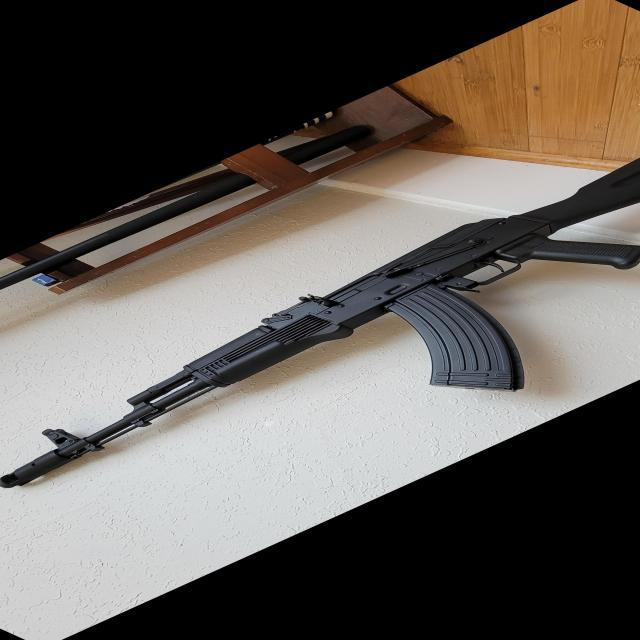weapon: (0, 160, 640, 489)
